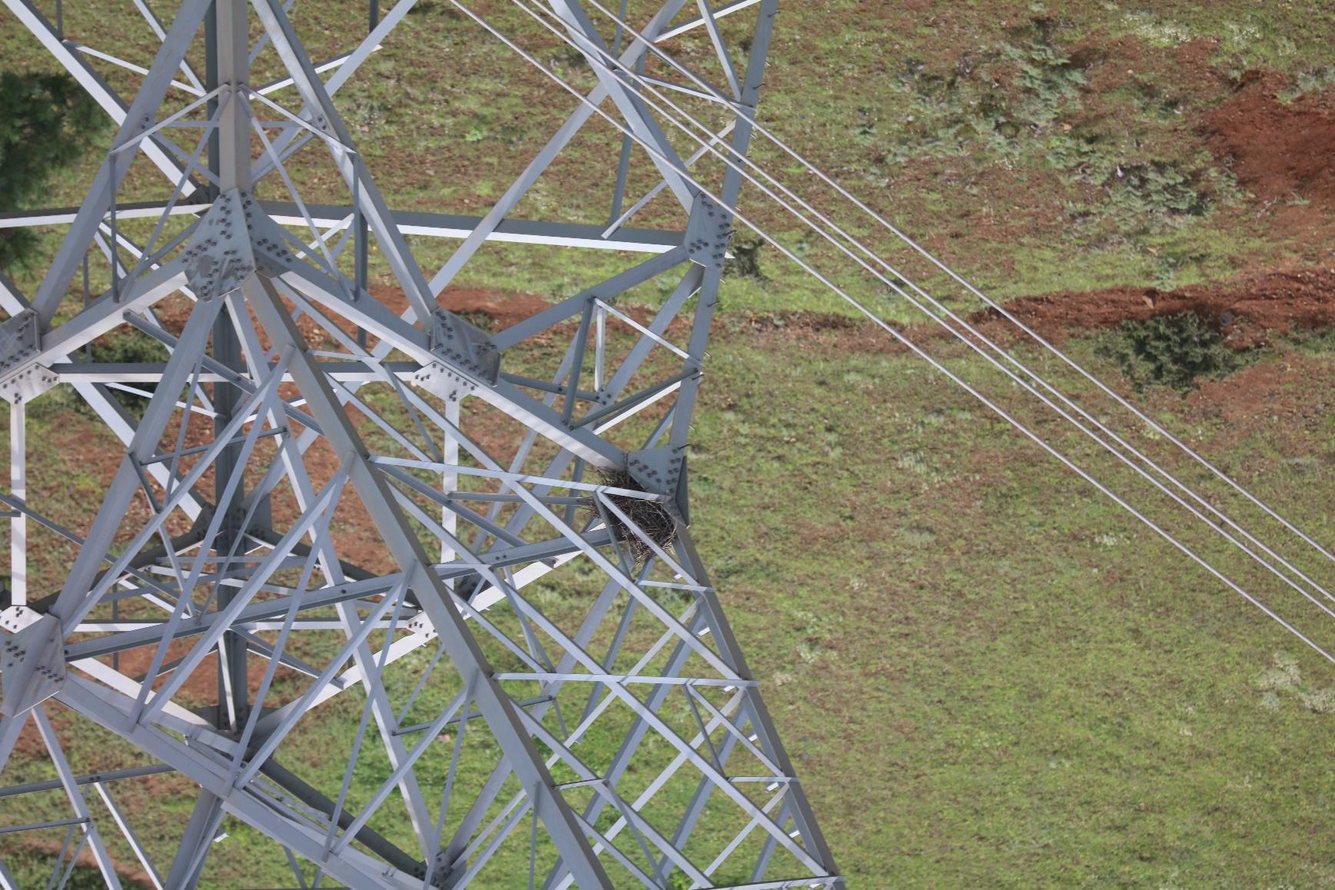nest: (599, 467, 678, 563)
